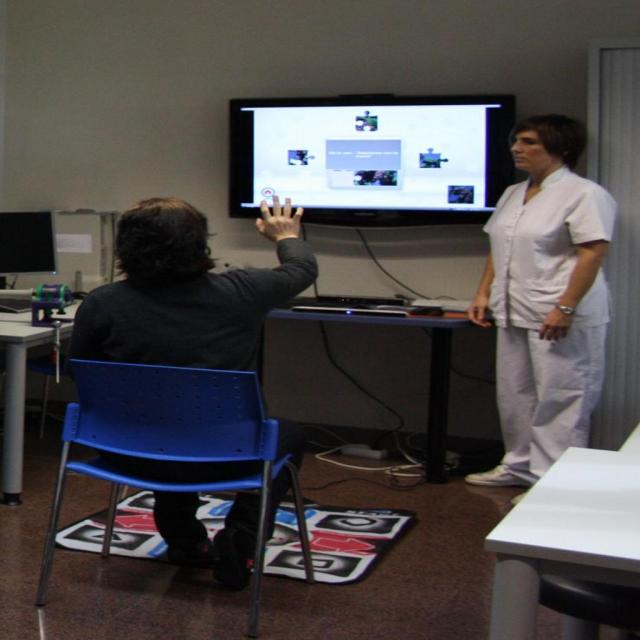chair: (34, 357, 312, 631)
desk: (207, 269, 529, 493)
person: (464, 113, 618, 490)
tv: (226, 94, 519, 224), (1, 212, 58, 278)
